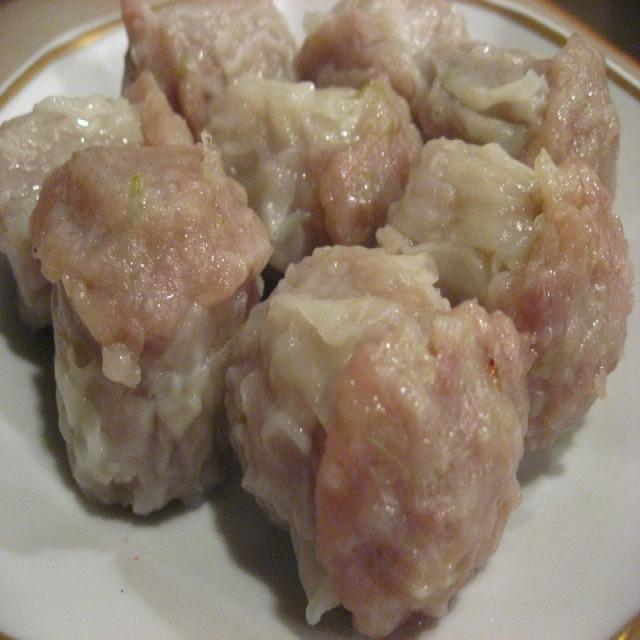带馅早点: (2, 0, 640, 632)
